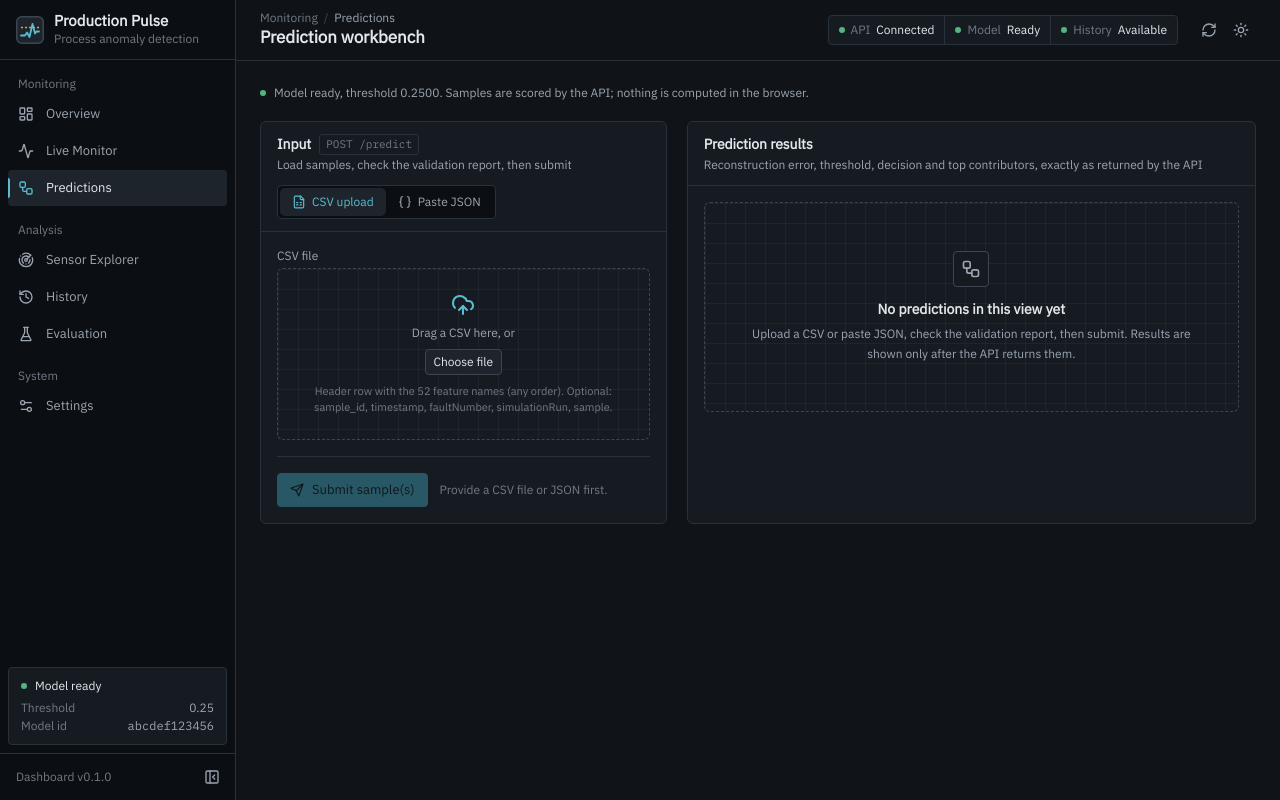
prediction workbench › blocks invalid JSON before submission (0)
This screenshot has width=1280, height=800.
Expected: the text "Connected" is shown, [876,22,934,38]
Click the tab "Paste JSON".
click(439, 202)  # box [386,188,493,216]
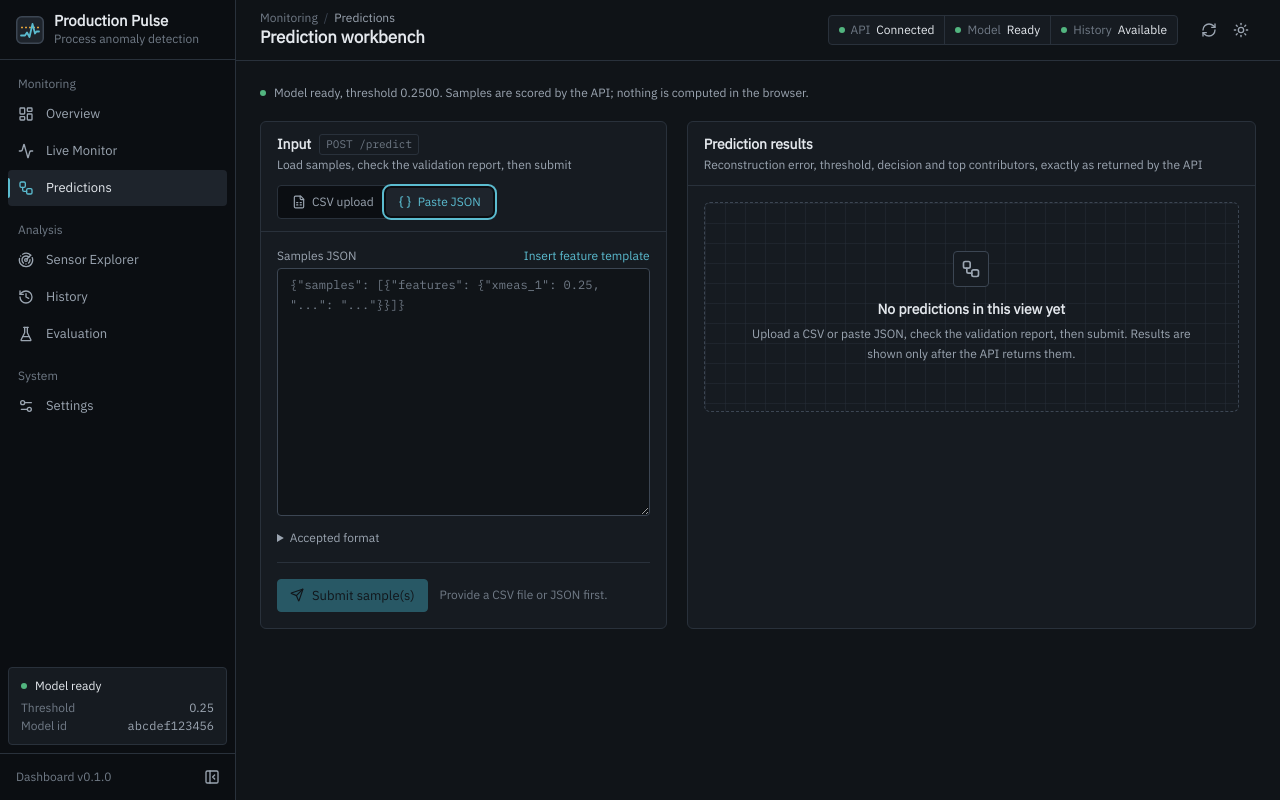
Click the text box labelled "Samples JSON".
click(463, 392)  # box [277,268,650,516]
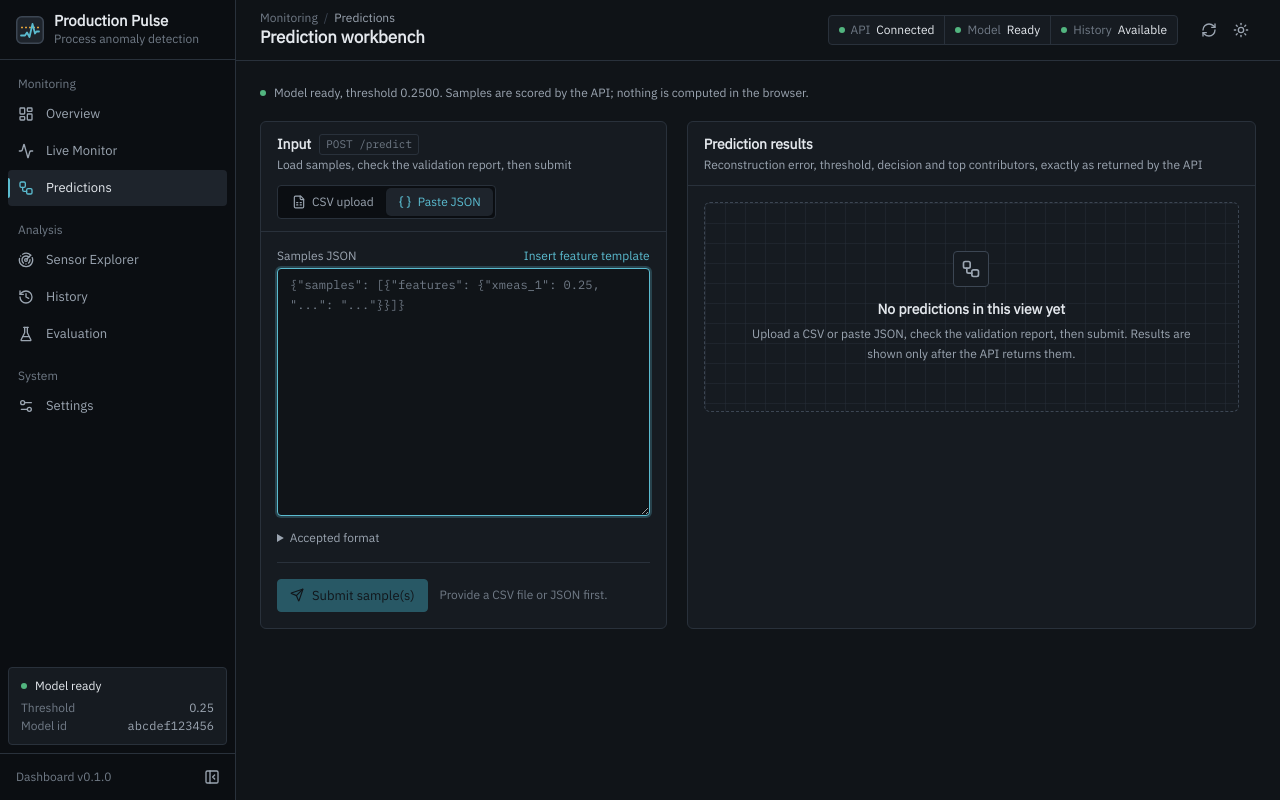
Type keys "{bad"
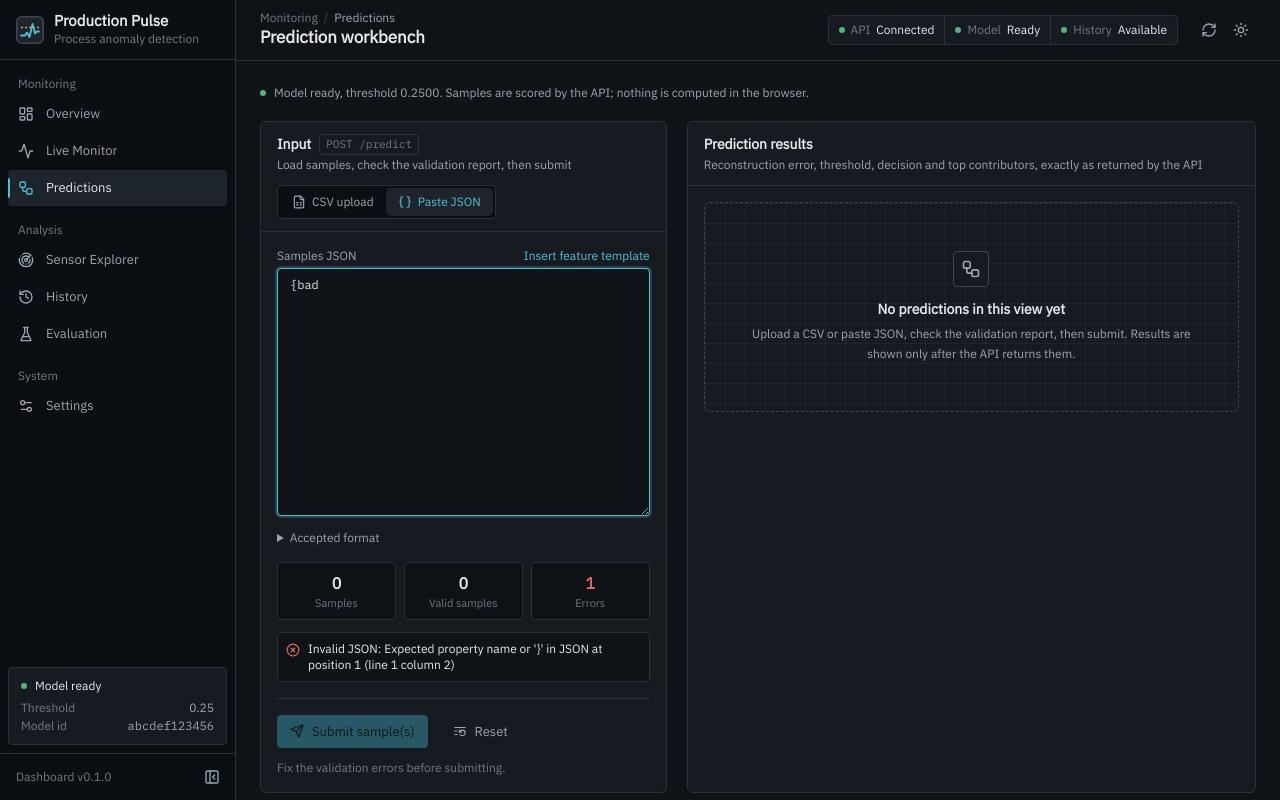
Expected: the button "Submit sample(s)" is disabled, [277,714,428,748]
Expected: the text "Invalid JSON" is shown, [308,640,602,672]
